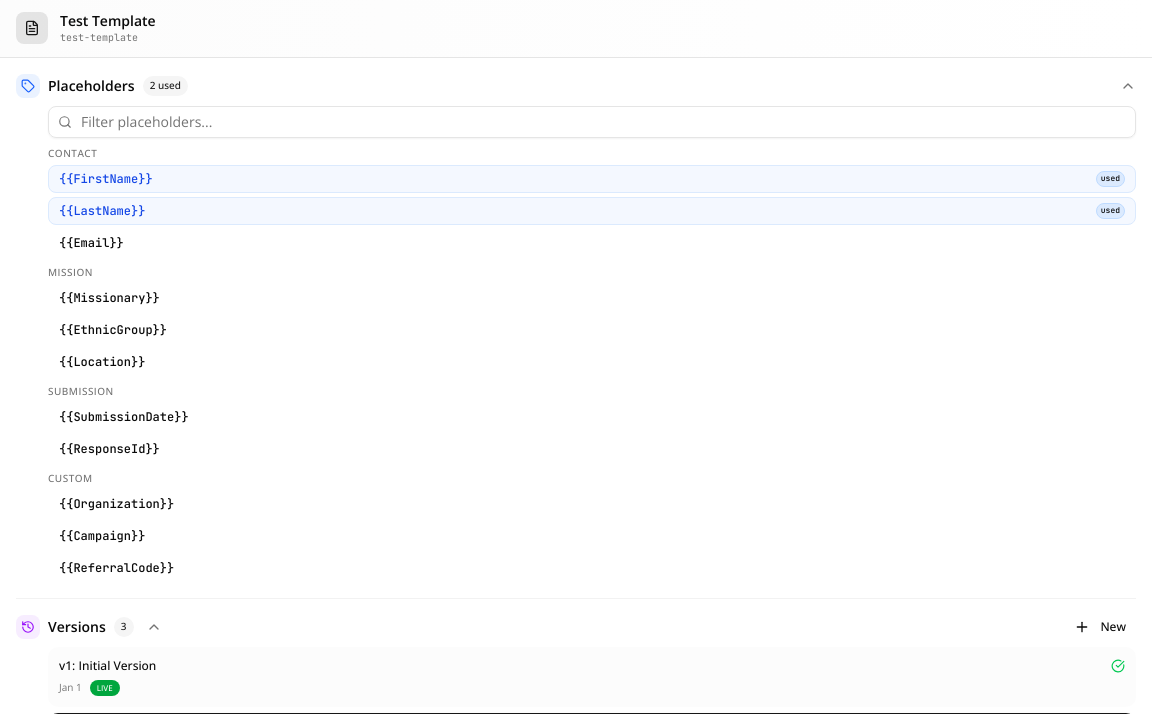
Scenario: SidebarPanel › Placeholders Section › shows no results message when search has no matches
Type "xyz123" into the field with placeholder "Filter placeholders..." at (592, 122), box left=48, top=106, right=1136, bottom=138
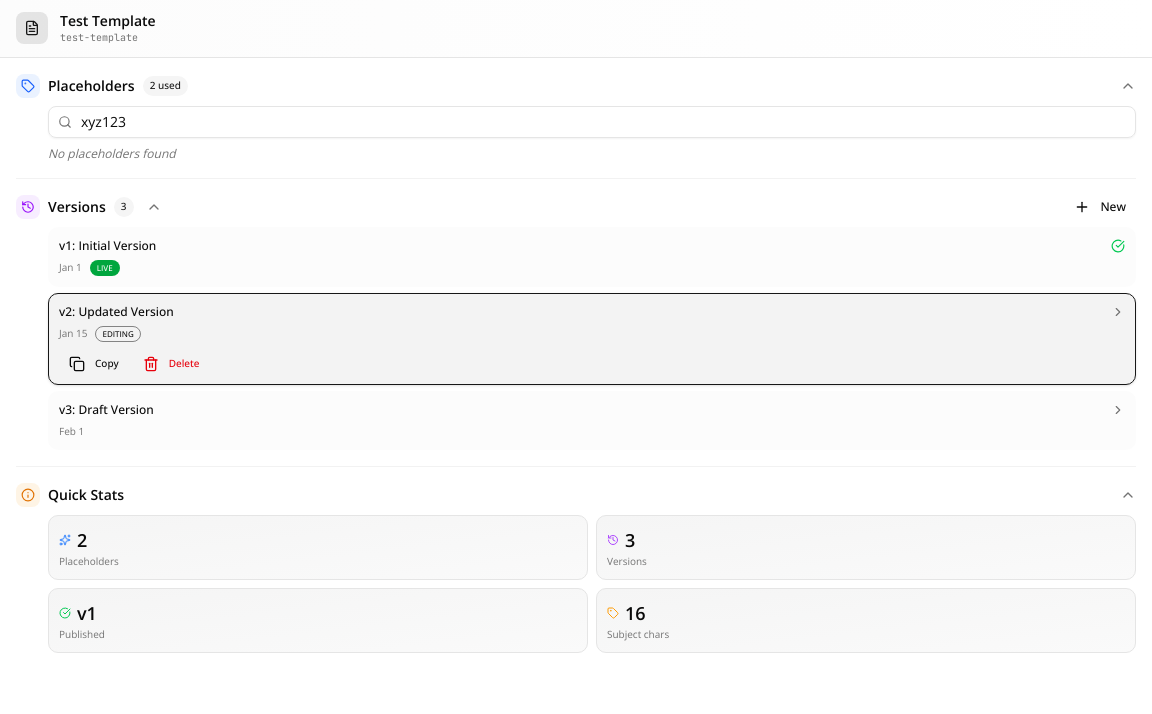
Expected: the text "No placeholders found" is shown, left=48, top=144, right=176, bottom=162
